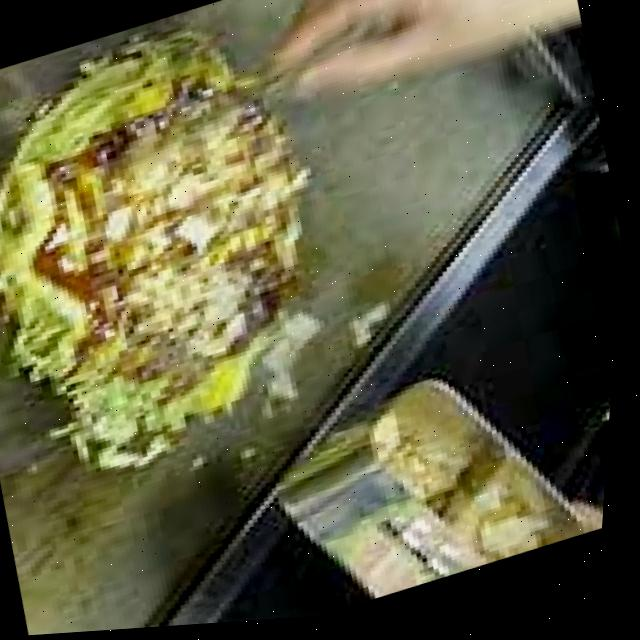蛋糕甜品: (0, 0, 400, 499)
